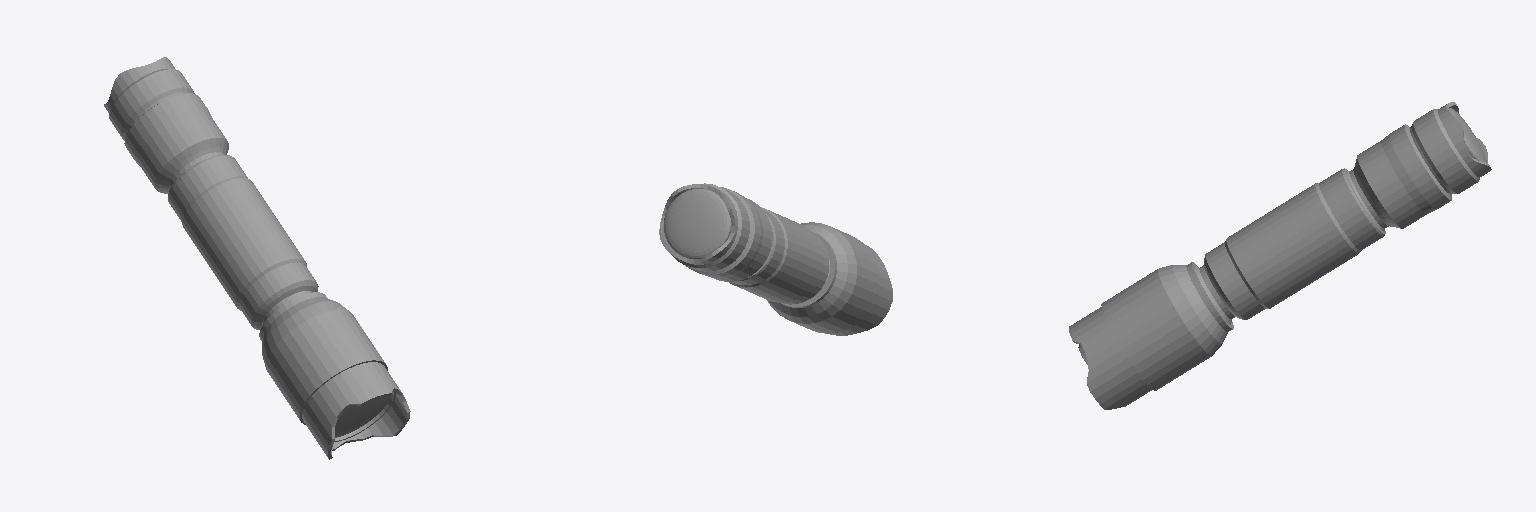
The model's file is FlashLight.obj.
3 views of the same model, side by side, from view 1: azimuth 30°, elevation 25°; view 2: azimuth 150°, elevation 25°; view 3: azimuth 270°, elevation 25° (orthographic).
Visible parts, largest first — view 1: Low_Circle.000; view 2: Low_Circle.000; view 3: Low_Circle.000.
Boxes of the visible parts, box(x1,y1,x2,y2) form: Low_Circle.000: box(104, 57, 410, 459); Low_Circle.000: box(659, 183, 892, 335); Low_Circle.000: box(1069, 102, 1491, 409).
Size of the model in its own units: 31.63 by 70.43 by 98.44.